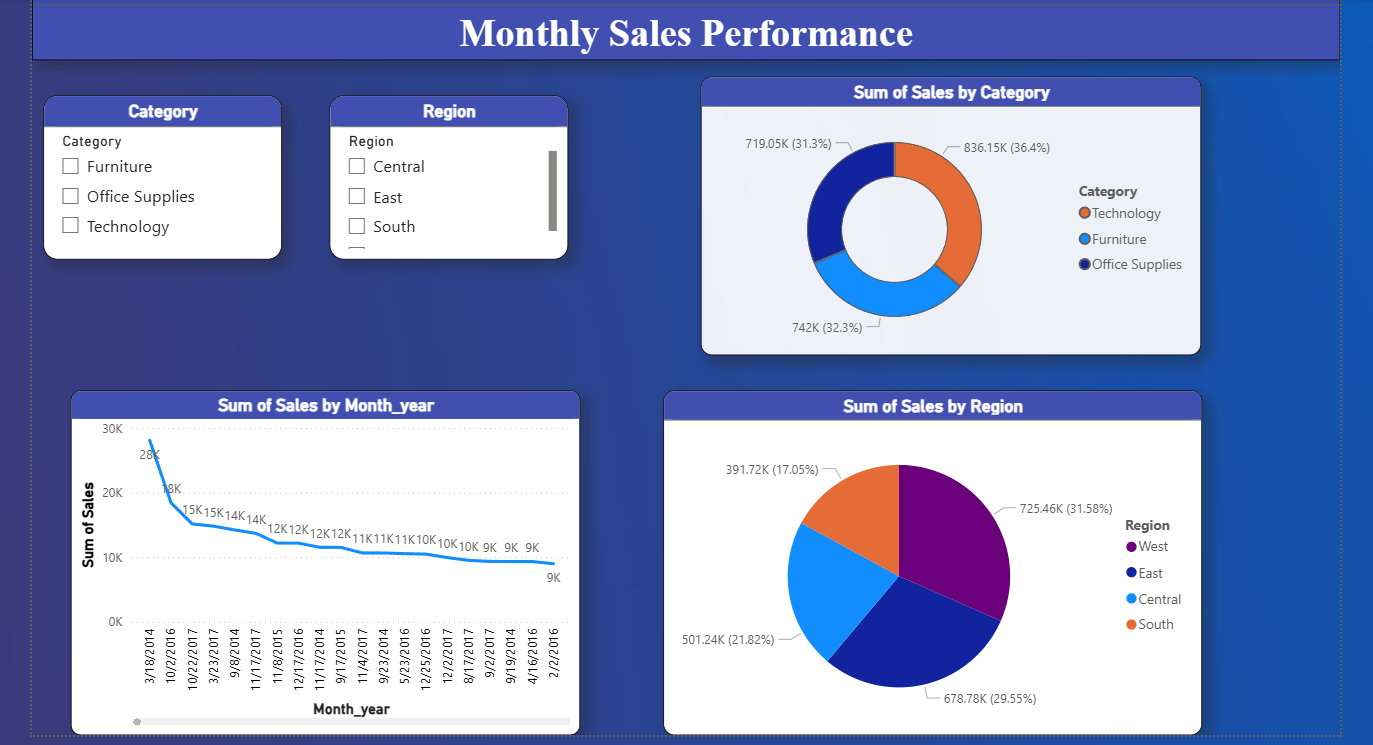

This screenshot's page, from the dashboard's own definition file:
{"tool":"powerbi","page":{"name":" Sales Dashboard","canvas":[1280,720],"ordinal":3},"visuals":[{"type":"textbox","box":[0,0,1280.3,60.4],"z":0},{"type":"slicer","title":"Category","fields":{"Values":["Sample - Superstore.Category"]},"box":[11,94.7,233.3,160.5],"z":1000},{"type":"slicer","title":"Region","fields":{"Values":["Sample - Superstore.Region"]},"box":[290.9,94.7,233.3,160.5],"z":2000},{"type":"lineChart","fields":{"Category":["Sample - Superstore.Month_year"],"Y":["Sum(Sample - Superstore.Sales)"]},"box":[38.4,382.8,498.1,337.6],"z":2001},{"type":"pieChart","fields":{"Category":["Sample - Superstore.Region"],"Y":["Sum(Sample - Superstore.Sales)"]},"box":[617.5,382.8,526.9,337.6],"z":2002},{"type":"donutChart","fields":{"Category":["Sample - Superstore.Category"],"Y":["Sum(Sample - Superstore.Sales)"]},"box":[654.5,75.5,489.9,273.1],"z":2003}]}

Visuals, with their boxes on the page's 1280x720 design canvas (x1, y1, x2, y2). These are canvas units, not pixel positions in the 1373x745 screenshot, which may show the page scaled, cropped or inside an application window:
textbox: 0, 0, 1280, 60
"Category" slicer: 11, 95, 244, 255
"Region" slicer: 291, 95, 524, 255
lineChart - Sample - Superstore.Month_year x Sum(Sample - Superstore.Sales): 38, 383, 536, 720
pieChart - Sample - Superstore.Region x Sum(Sample - Superstore.Sales): 618, 383, 1144, 720
donutChart - Sample - Superstore.Category x Sum(Sample - Superstore.Sales): 654, 76, 1144, 349
